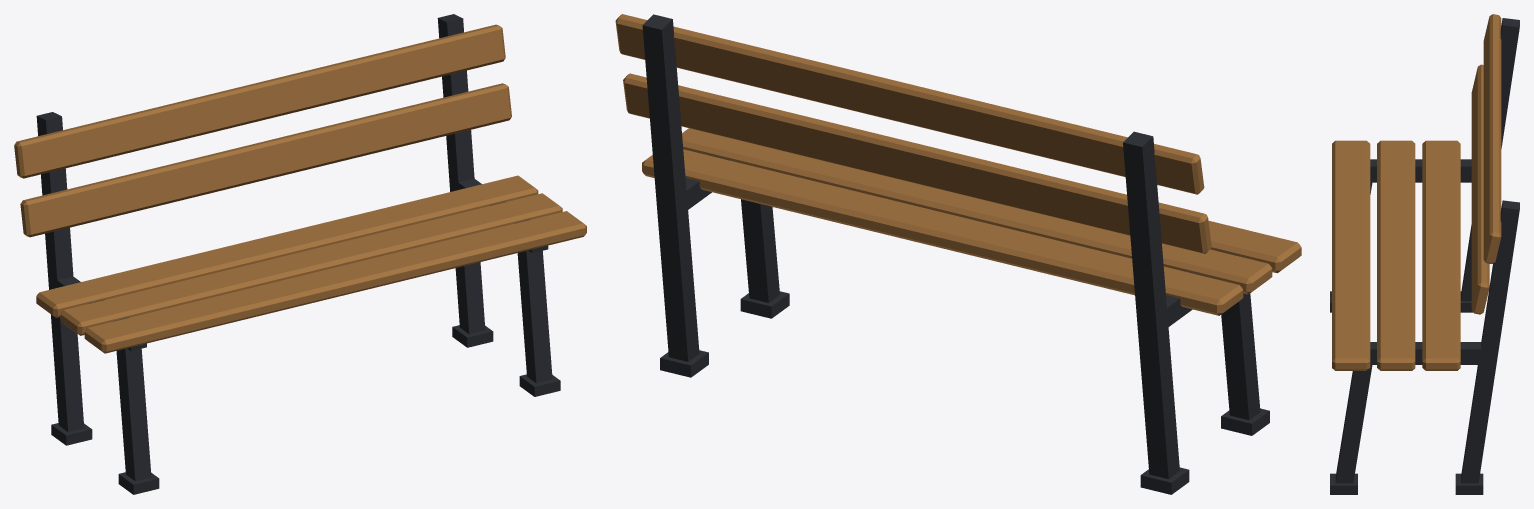
The model's file is bench.glb.
The picture shows the model from 3 angles, left to right: view 1: azimuth 30°, elevation 25°; view 2: azimuth 150°, elevation 25°; view 3: azimuth 270°, elevation 25°; orthographic projection. The views are drawn at different scales.
Visible parts, largest first — view 1: bench_body; view 2: bench_body; view 3: bench_body.
Part boxes in pixels (box(x1,y1,x2,y2)): bench_body: box(14, 14, 586, 494); bench_body: box(615, 14, 1301, 494); bench_body: box(1330, 14, 1519, 494).
Size of the model in its own units: 1.5 by 0.9034 by 0.5448.
